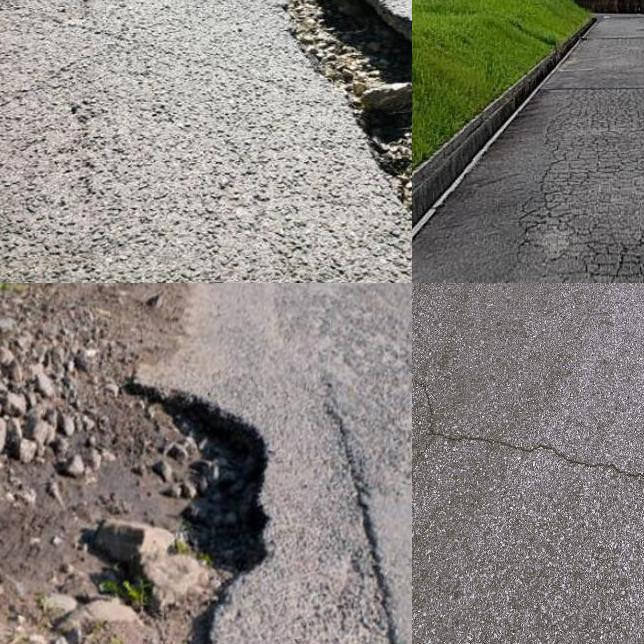Melintang: (422, 417, 644, 484)
Pinggir: (21, 354, 324, 644), (242, 0, 412, 280)
Retak Buaya: (522, 90, 644, 283)
